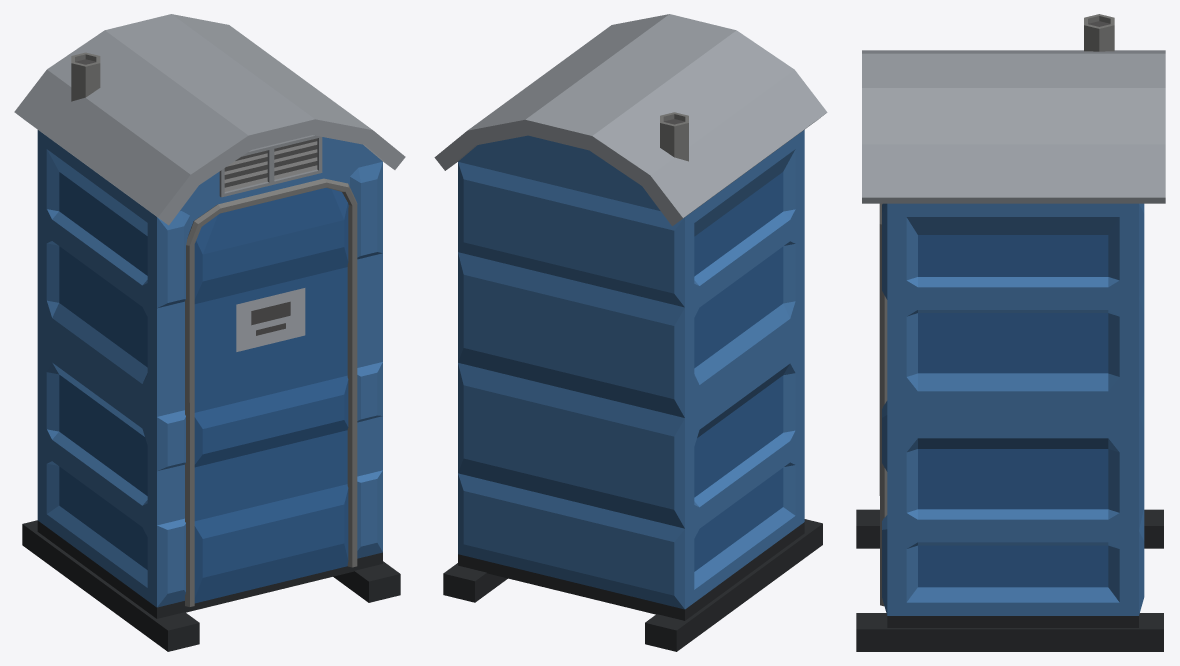
File: SM_Prop_Portaloo_01.fbx
3 renders of one model, left to right at view 1: azimuth 30°, elevation 25°; view 2: azimuth 150°, elevation 25°; view 3: azimuth 270°, elevation 25°, orthographic. The views are drawn at different scales.
Parts seen in each view (by area): view 1: SM_Prop_Portaloo_01, SM_Prop_Portaloo_01_Door; view 2: SM_Prop_Portaloo_01; view 3: SM_Prop_Portaloo_01, SM_Prop_Portaloo_01_Door.
Part boxes in pixels (<box>): SM_Prop_Portaloo_01: <box>14,14,405,651</box>; SM_Prop_Portaloo_01_Door: <box>185,178,357,606</box>; SM_Prop_Portaloo_01: <box>434,14,827,651</box>; SM_Prop_Portaloo_01: <box>856,14,1165,651</box>; SM_Prop_Portaloo_01_Door: <box>879,203,887,606</box>.
Bounding box in the file's own units: 163 × 314 × 167.
